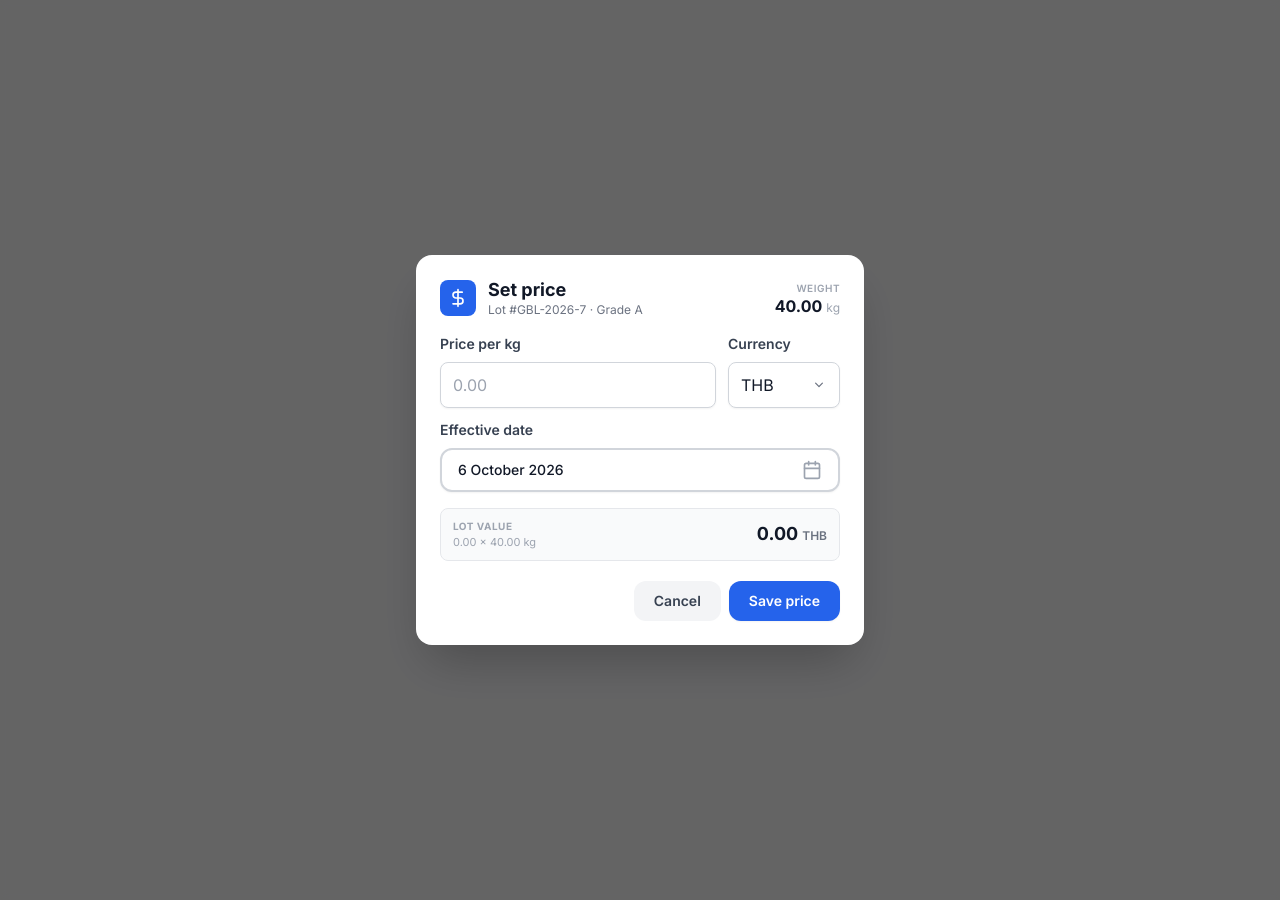
Test: SetPriceModal › refuses to save a price of 0
Type "0" into the number field labelled "Price per kg" at [578, 384], box [440,362,716,408]
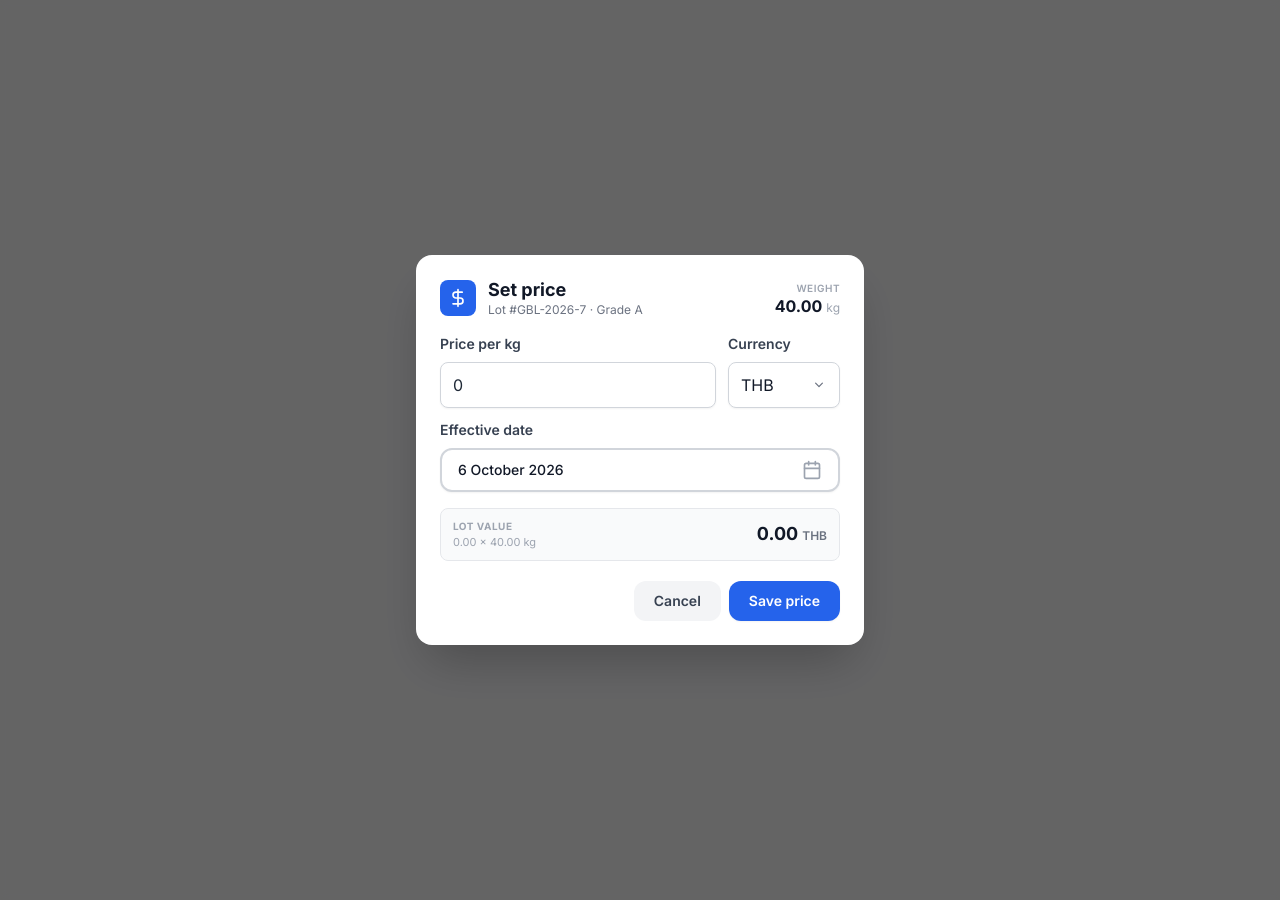
Click the button "Save price" at [784, 601], box [729,581,840,621]
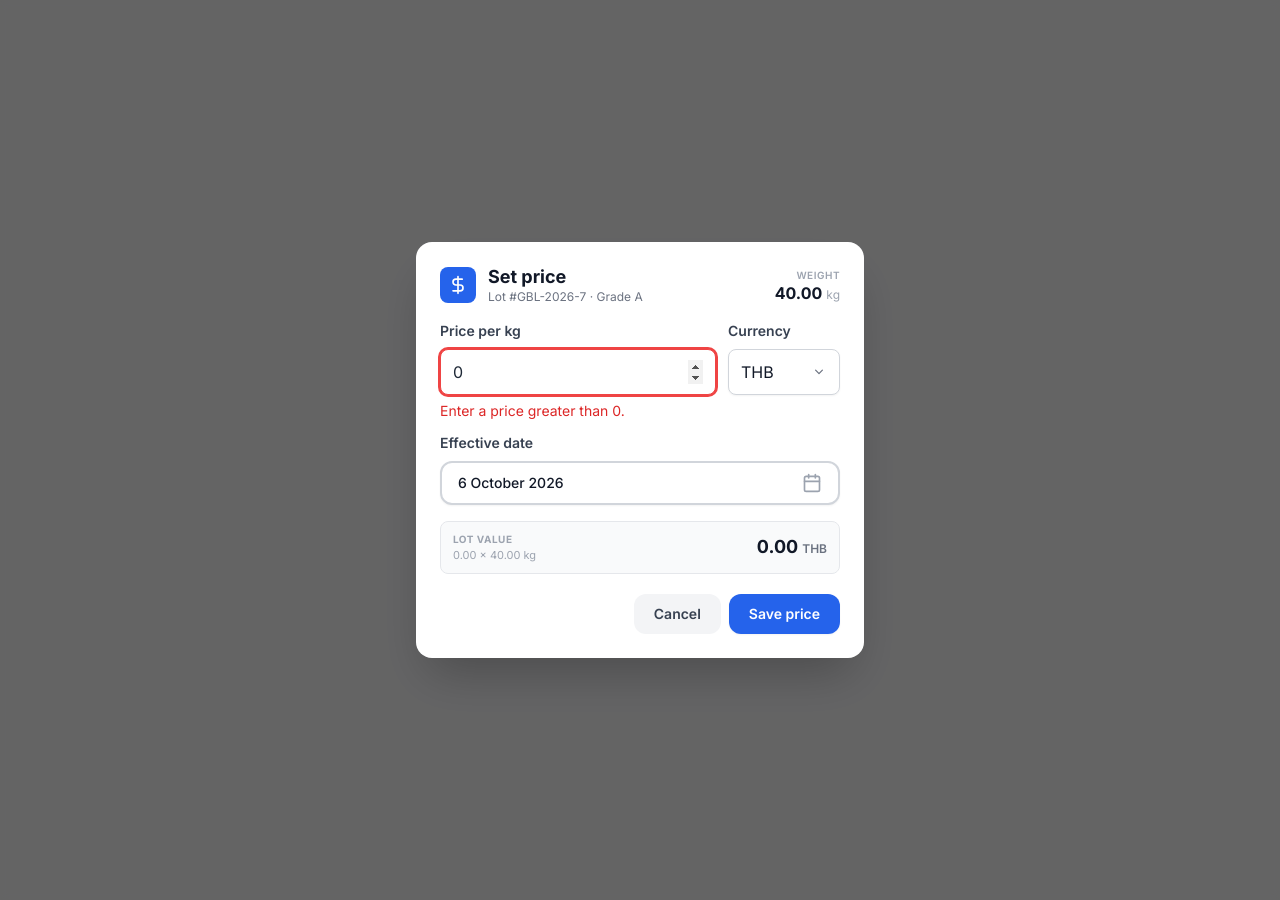
Check: the text "Enter a price greater than 0." is shown, box [440,402,625,418]
